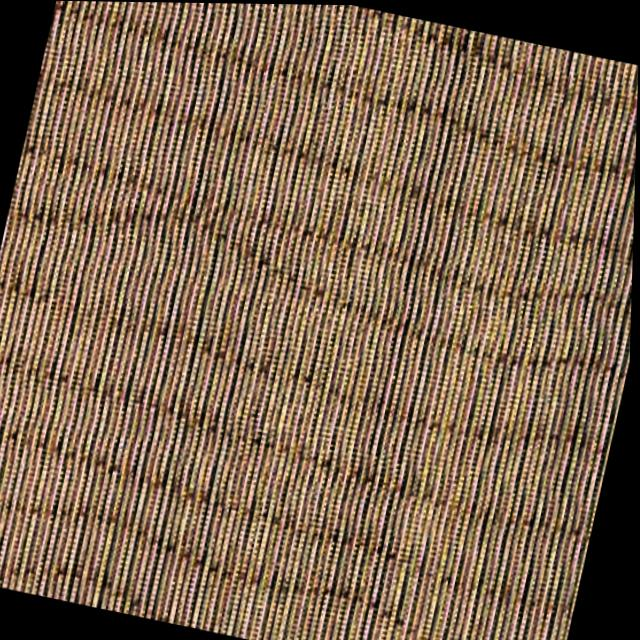Stitch: (26, 126, 333, 298)
